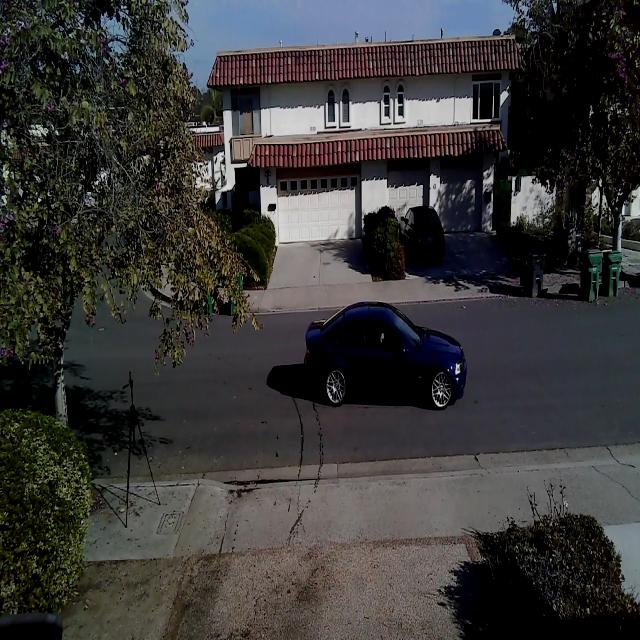Carbeetle: (294, 298, 476, 416)
Civilian: (397, 206, 445, 264)
